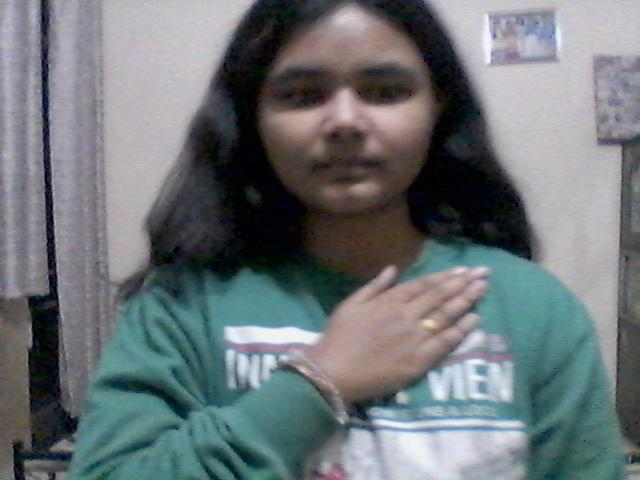please: (292, 251, 502, 400)
